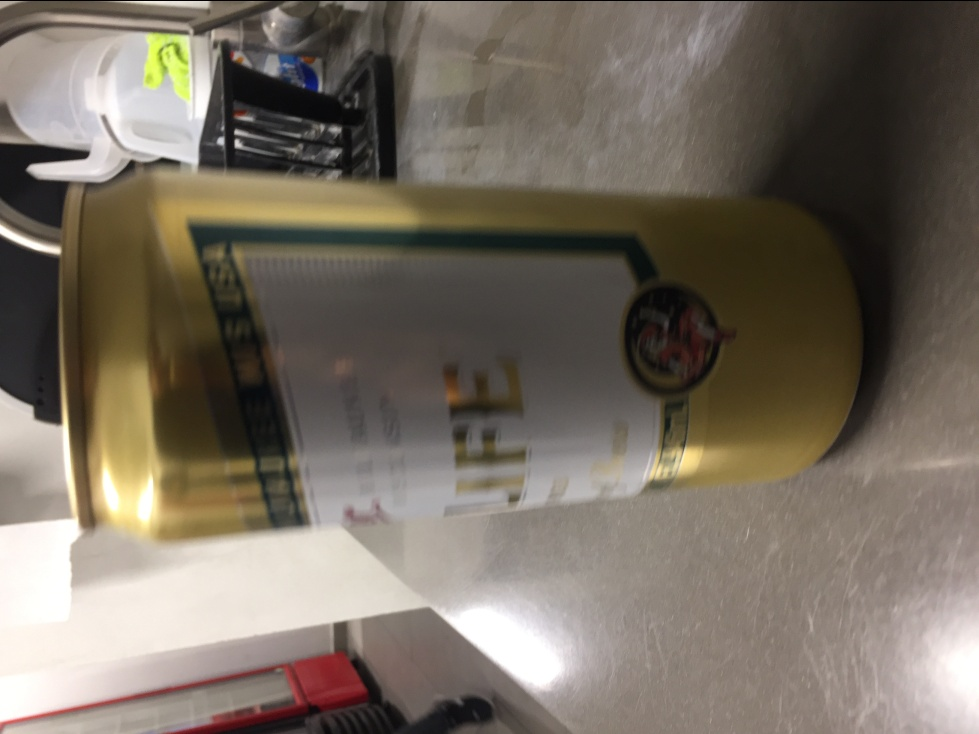miller: (49, 163, 876, 546)
